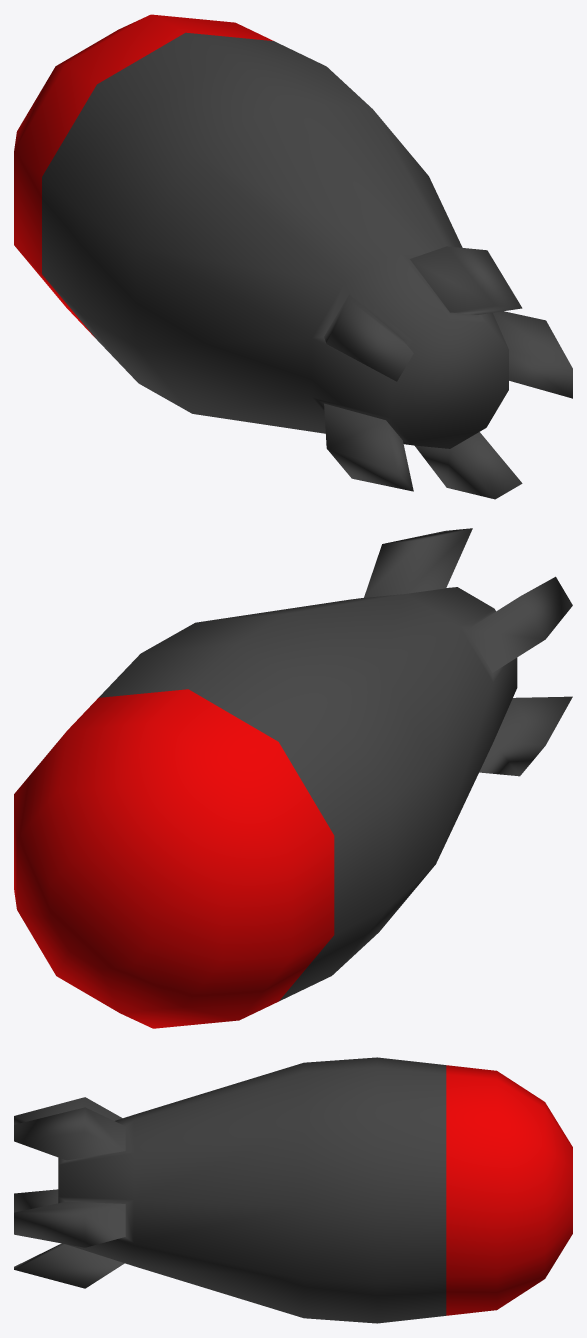
File: Proyectil 1.fbx
3 renders of one model, top to bottom at view 1: azimuth 30°, elevation 25°; view 2: azimuth 150°, elevation 25°; view 3: azimuth 270°, elevation 25°, orthographic. The views are drawn at different scales.
Parts seen in each view (by area): view 1: Proyectil; view 2: Proyectil; view 3: Proyectil.
Part boxes in pixels (<box>): Proyectil: <box>14,14,572,499</box>; Proyectil: <box>14,528,572,1028</box>; Proyectil: <box>14,1057,572,1323</box>.
Bounding box in the file's own units: 38 × 39.96 × 82.4.
